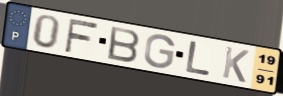0: (31, 13, 62, 49)
B: (107, 25, 143, 64)
F: (62, 17, 101, 54)
G: (142, 33, 177, 70)
K: (220, 45, 251, 85)
L: (184, 39, 213, 77)
